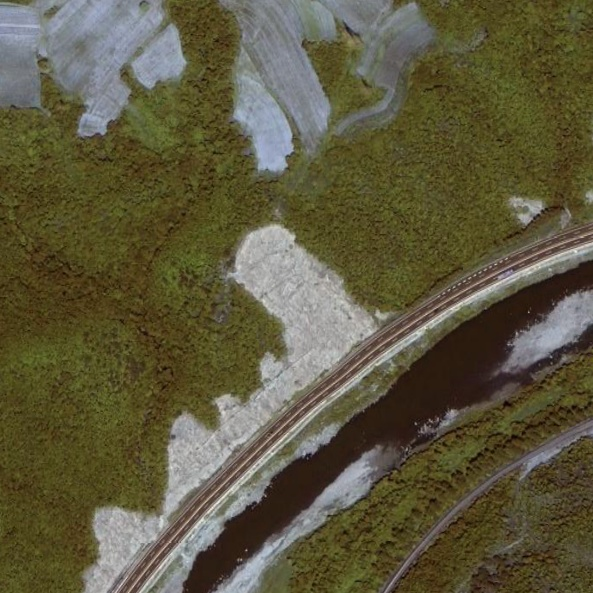slope: (73, 217, 379, 592), (504, 189, 550, 230)
